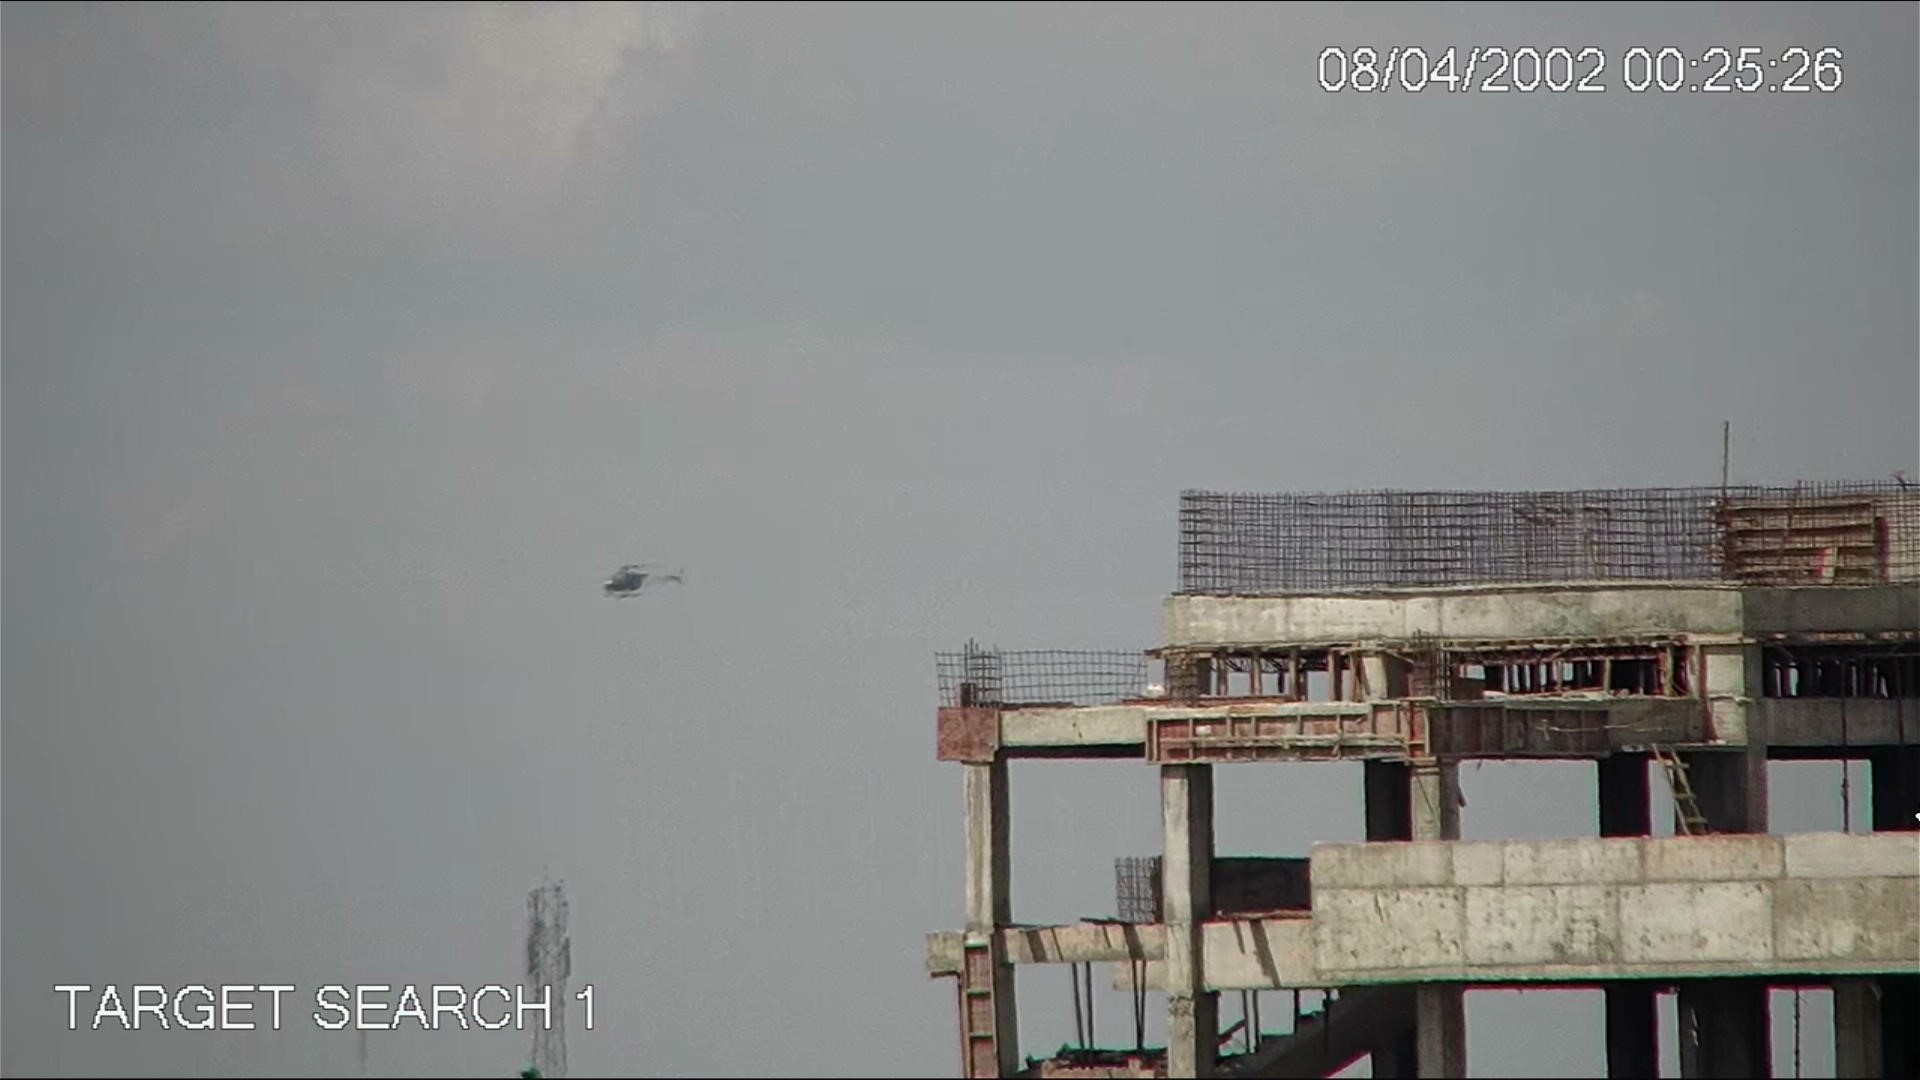SU_30: (595, 556, 690, 607)
